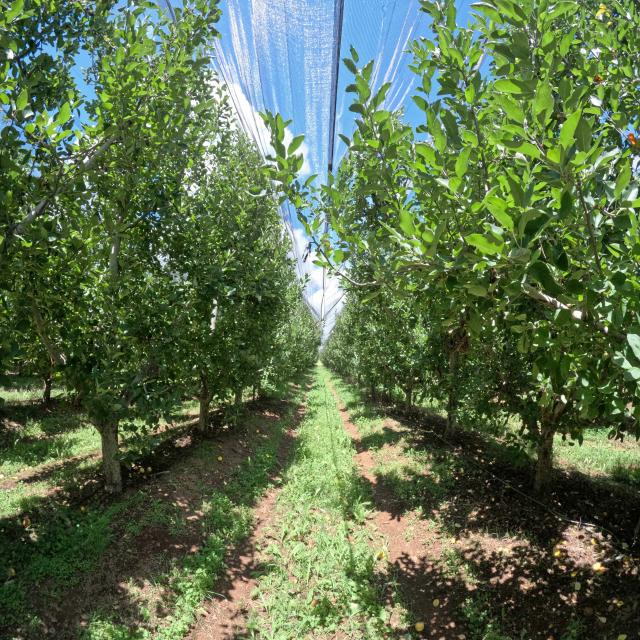-FireBlight-: (441, 308, 474, 358), (301, 242, 313, 262), (149, 367, 163, 376)
